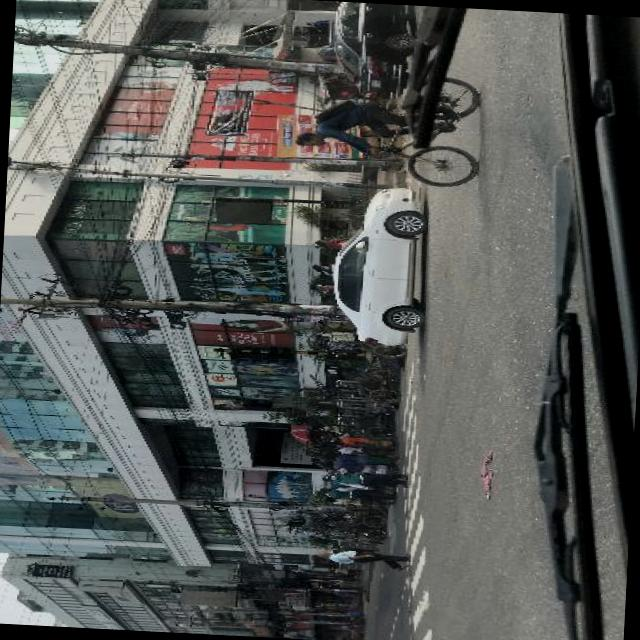car: (330, 184, 436, 344), (329, 2, 418, 98)
motorcycle: (316, 44, 334, 62)
